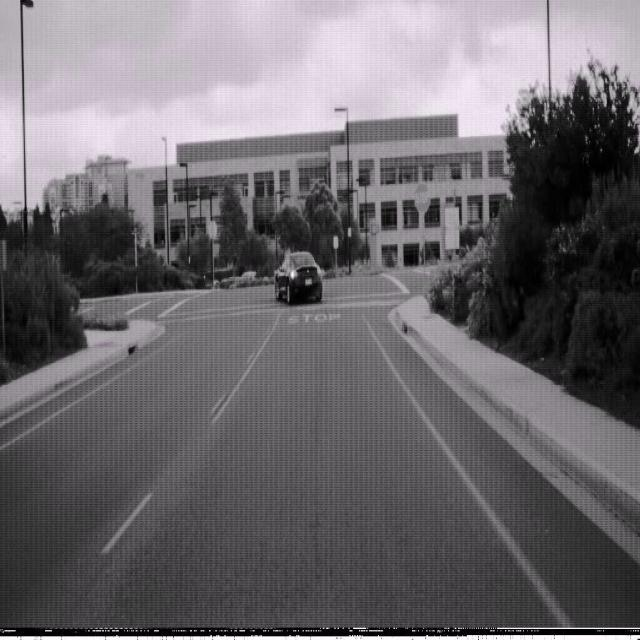stop_sign: (414, 180, 431, 213)
